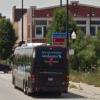Bus: (13, 44, 72, 97)
